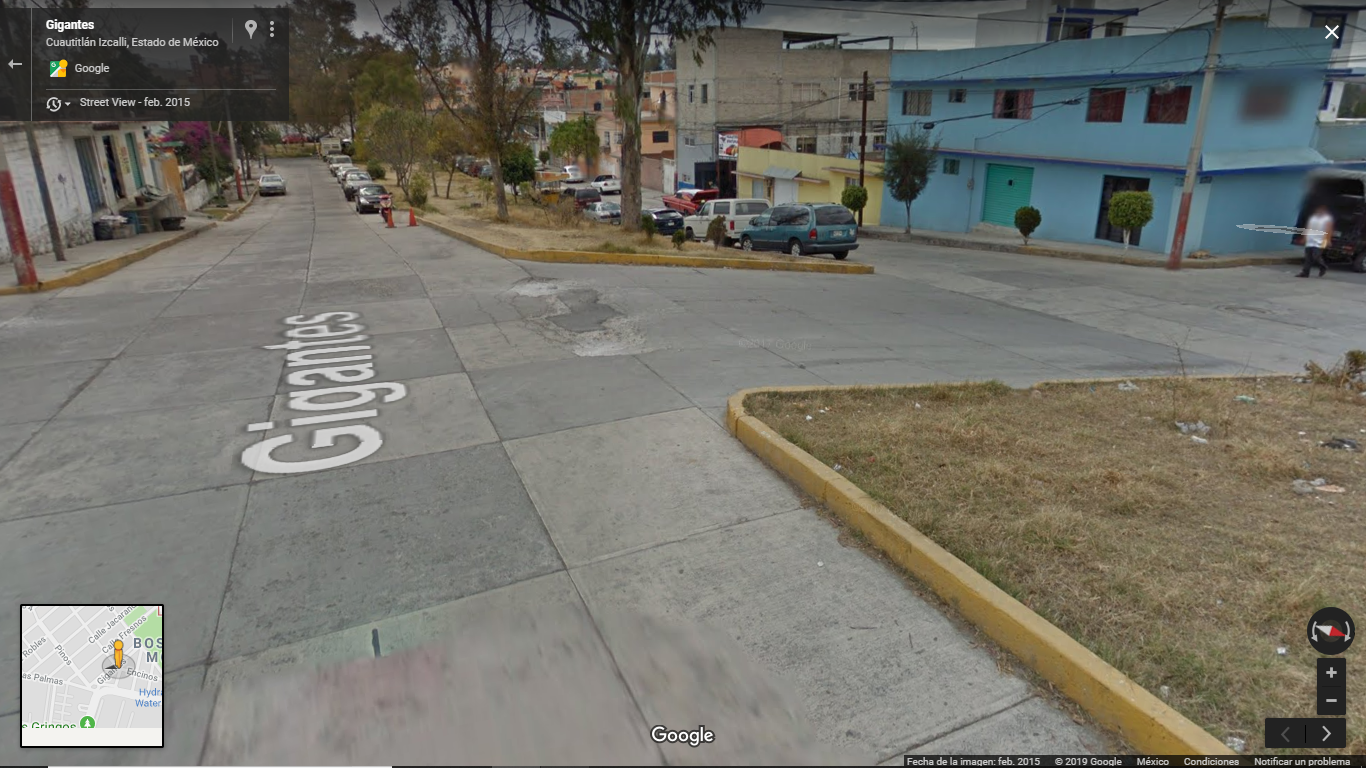pothole: (500, 266, 663, 364)
